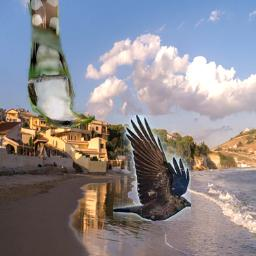Crow: (113, 115, 191, 221)
Cuckoo: (26, 0, 95, 130)
